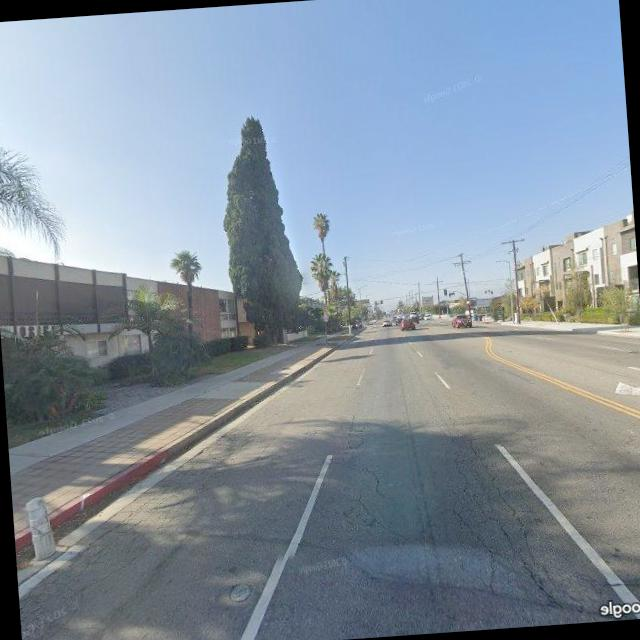crack: (18, 431, 259, 628), (438, 425, 564, 612)
